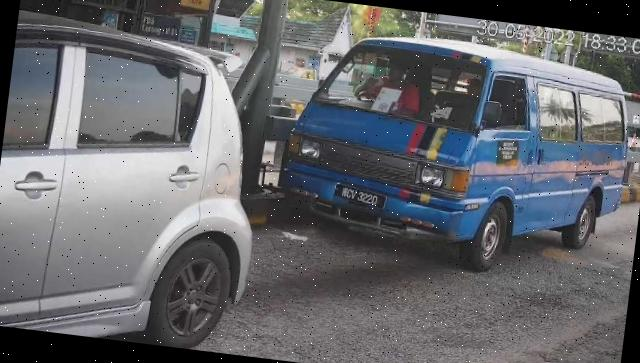License_Plate: (333, 182, 389, 211)
van: (272, 21, 640, 288)
